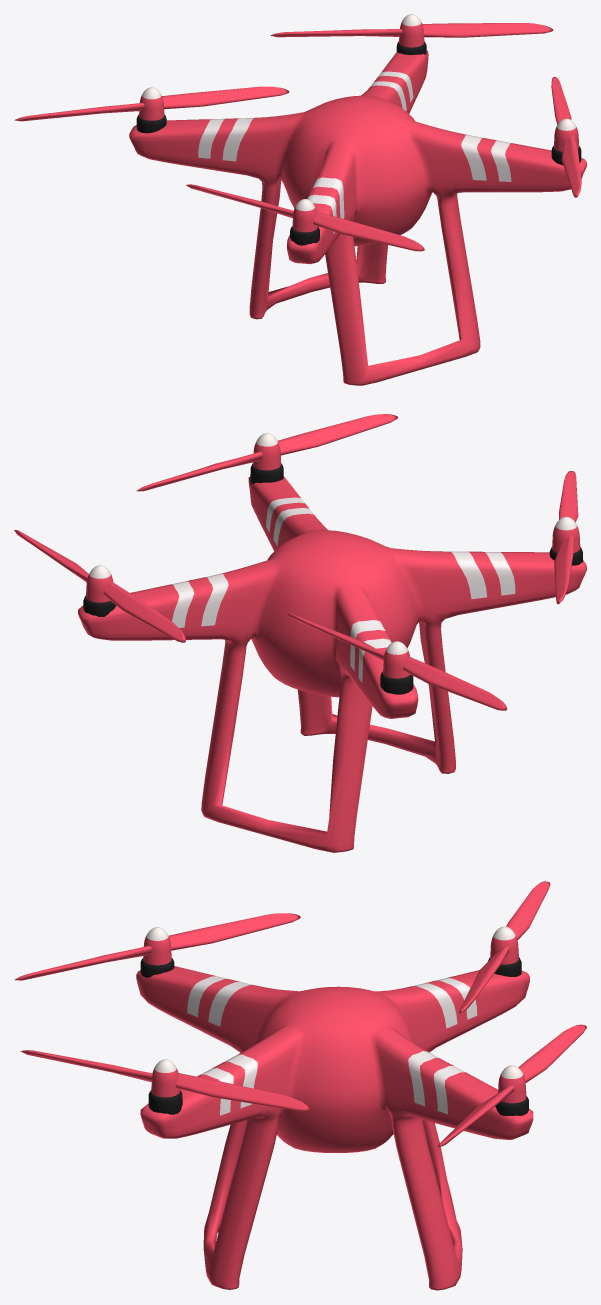
The model's file is drone0.fbx.
3 renders of one model, top to bottom at view 1: azimuth 30°, elevation 25°; view 2: azimuth 150°, elevation 25°; view 3: azimuth 270°, elevation 25°, orthographic. The views are drawn at different scales.
Visible parts, largest first — view 1: Drone.001, shan3, shan2, shan4, shan1; view 2: Drone.001, shan1, shan3, shan2, shan4; view 3: Drone.001, shan1, shan4, shan2, shan3.
Part boxes in pixels (x1,y1,x2,y2): Drone.001: (129, 50, 586, 385); shan3: (14, 86, 289, 133); shan2: (270, 14, 553, 54); shan4: (186, 184, 424, 251); shan1: (551, 77, 581, 197); Drone.001: (78, 476, 586, 852); shan1: (136, 414, 397, 491); shan3: (287, 614, 507, 710); shan2: (14, 530, 185, 642); shan4: (549, 471, 582, 604); Drone.001: (136, 966, 533, 1290); shan1: (20, 1050, 310, 1114); shan4: (14, 913, 300, 980); shan2: (437, 1024, 586, 1147); shan3: (459, 881, 550, 1013).
Size of the model in its own units: 1985 by 919 by 1766.
